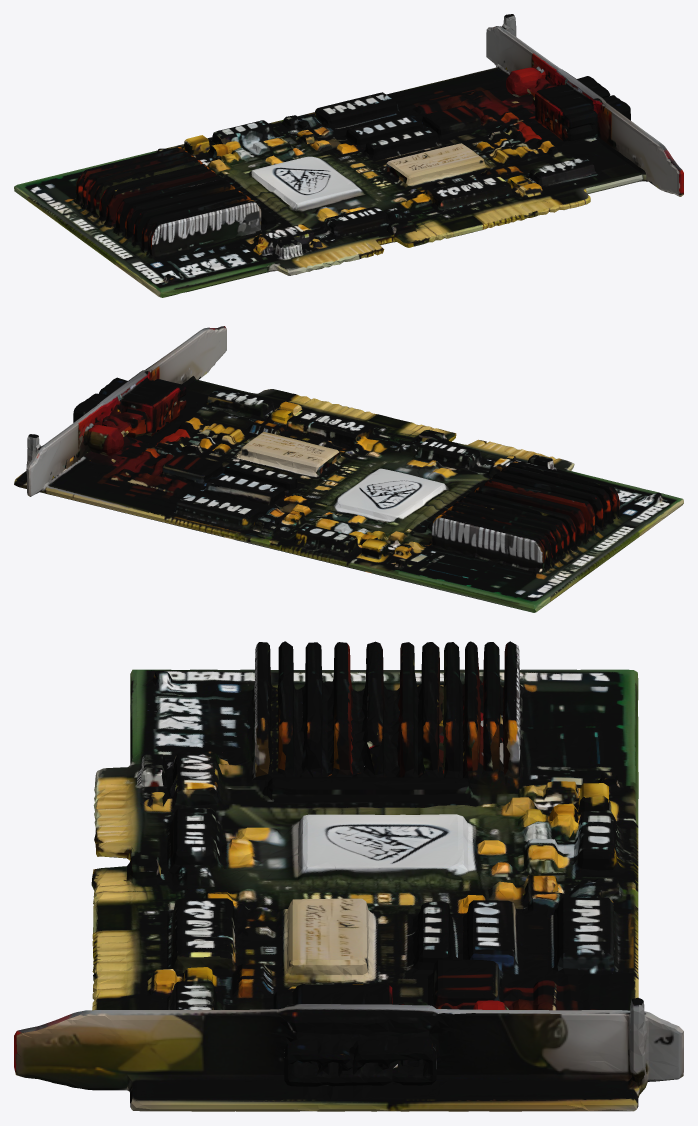
The picture shows the model from 3 angles, top to bottom: view 1: azimuth 30°, elevation 25°; view 2: azimuth 150°, elevation 25°; view 3: azimuth 270°, elevation 25°; orthographic projection. The views are drawn at different scales.
Parts seen in each view (by area): view 1: mesh_textured; view 2: mesh_textured; view 3: mesh_textured.
Part boxes in pixels (x1=…): mesh_textured: x1=14, y1=14, x2=683, y2=297; mesh_textured: x1=14, y1=326, x2=683, y2=612; mesh_textured: x1=14, y1=641, x2=683, y2=1111.
Bounding box in the file's own units: 1.61 × 0.17 × 1.05.
1 material, 1 textured.
